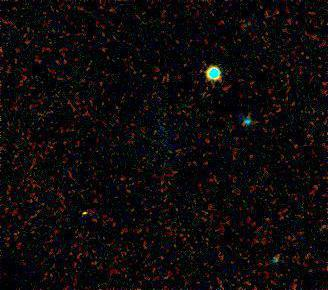star: (63, 195, 93, 225)
